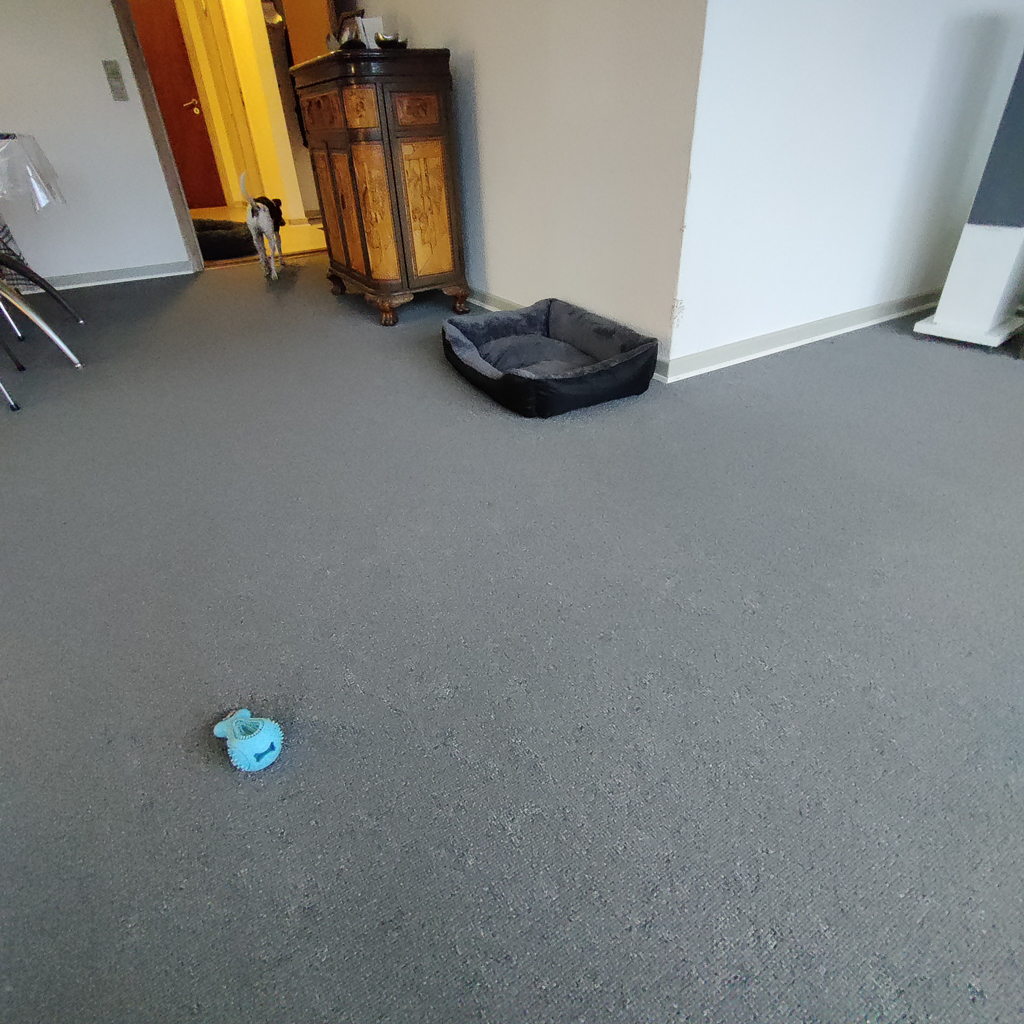Dog: (228, 165, 302, 288)
